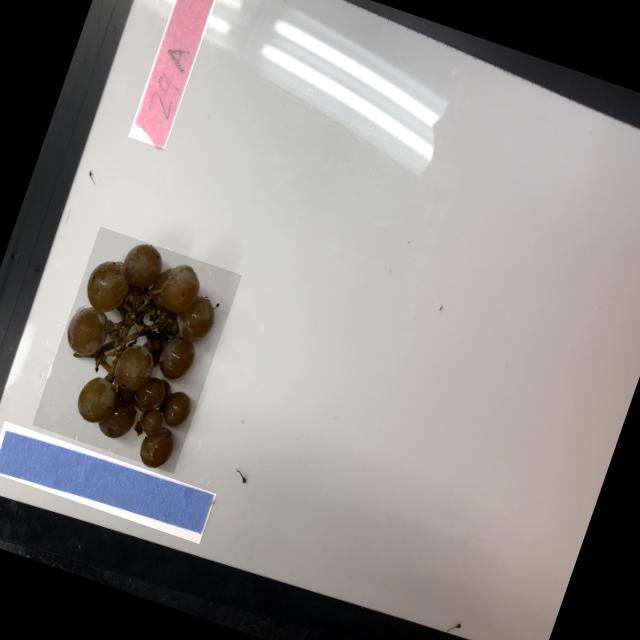grape_cluster: (32, 225, 242, 472)
index: (127, 0, 222, 148)
measure_label: (0, 419, 216, 542)
